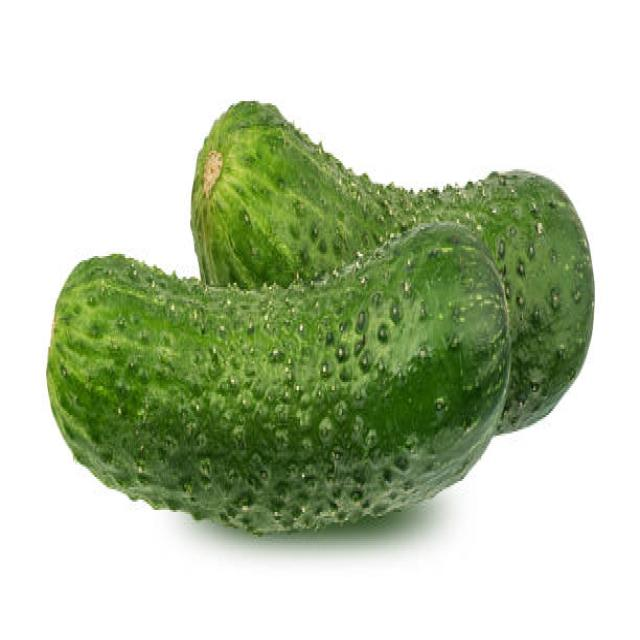cucumber: (46, 222, 511, 533), (190, 101, 596, 436)
